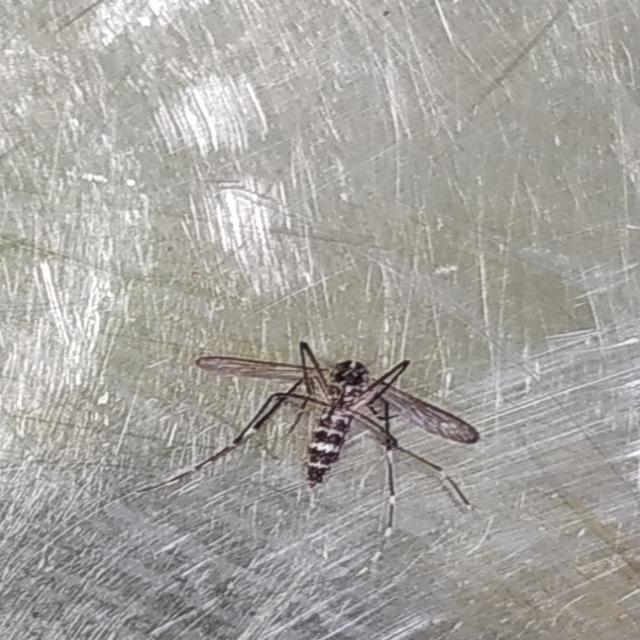albopictus: (146, 328, 490, 544)
